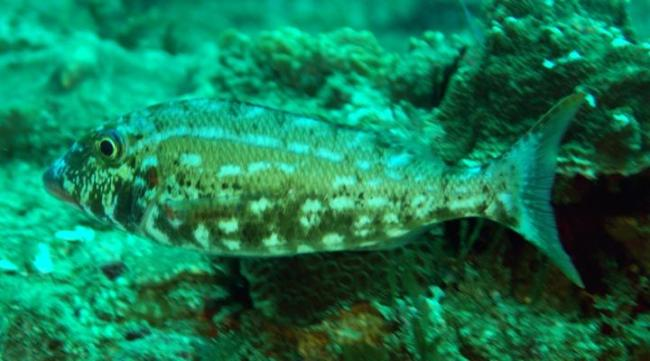fish: (42, 92, 586, 289)
